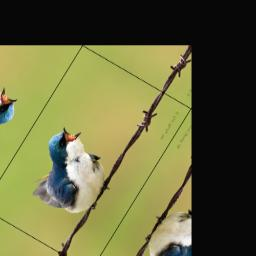Swallow: (18, 118, 129, 228)
